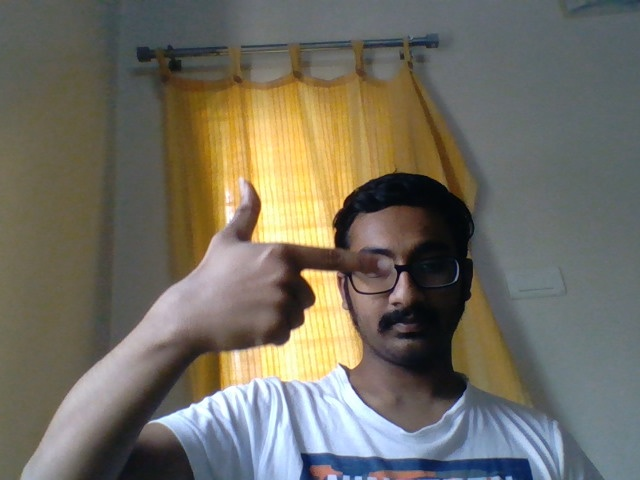yes: (135, 156, 406, 353)
